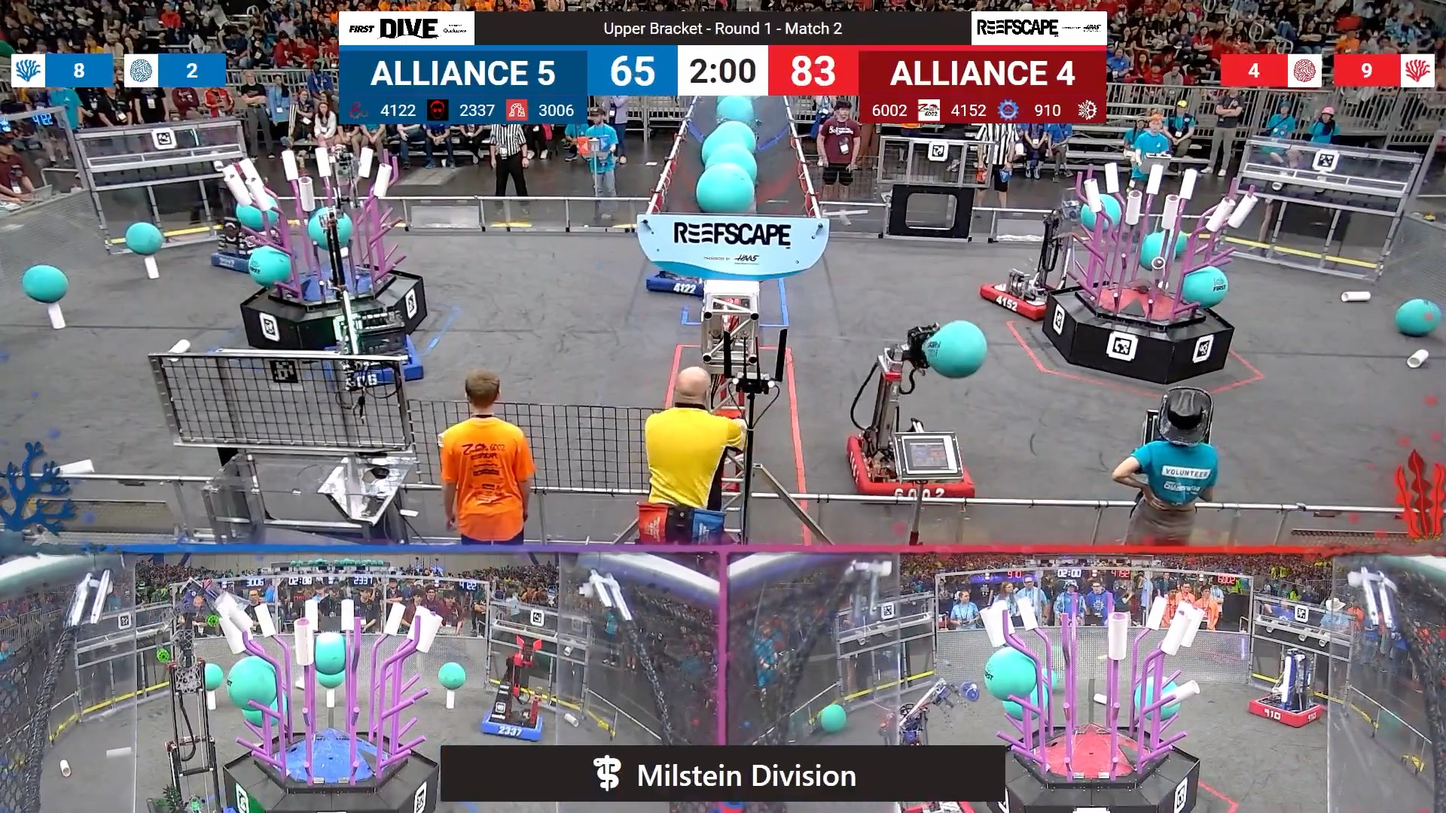bumpers: (840, 431, 977, 506), (317, 339, 427, 390), (976, 273, 1066, 324), (474, 704, 553, 746), (1242, 694, 1331, 730), (206, 244, 275, 276), (639, 268, 709, 298)
